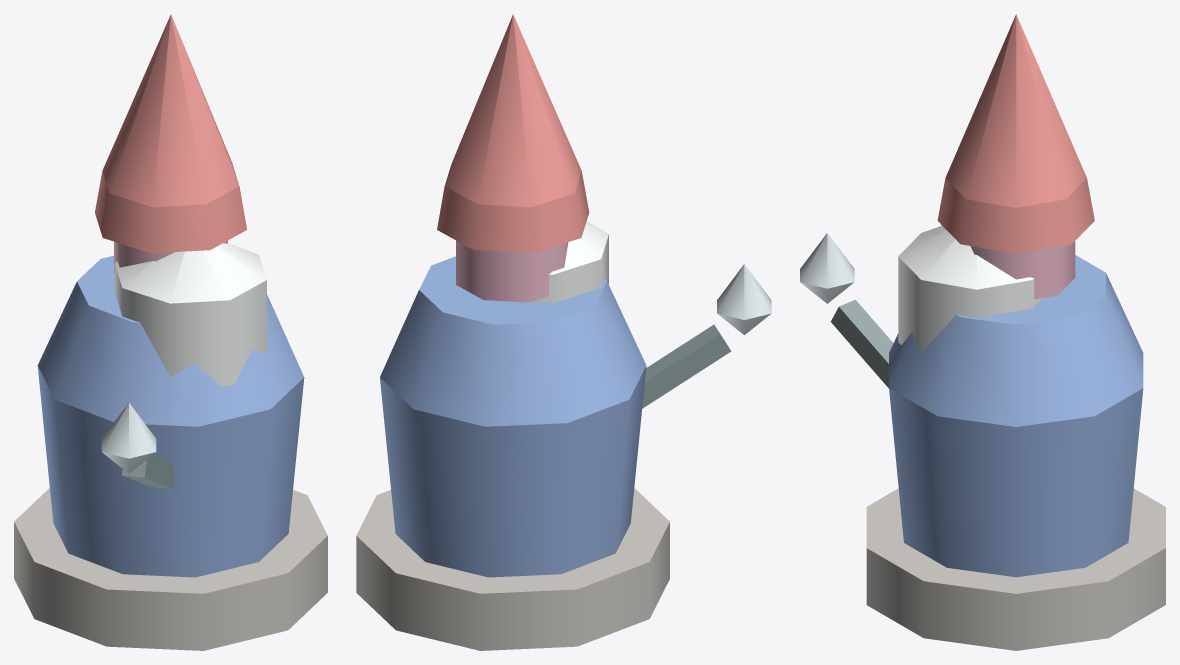
Rendered from gardenGnome.glb.
3 views of the same model, side by side, from view 1: azimuth 30°, elevation 25°; view 2: azimuth 150°, elevation 25°; view 3: azimuth 270°, elevation 25° (orthographic).
Visible parts, largest first — view 1: gardenGnome; view 2: gardenGnome; view 3: gardenGnome.
Part boxes in pixels (x1,y1,x2,y2): gardenGnome: [14, 14, 327, 650]; gardenGnome: [356, 14, 771, 650]; gardenGnome: [800, 14, 1165, 650].
Bounding box in the file's own units: 0.22 × 0.4 × 0.2324.
